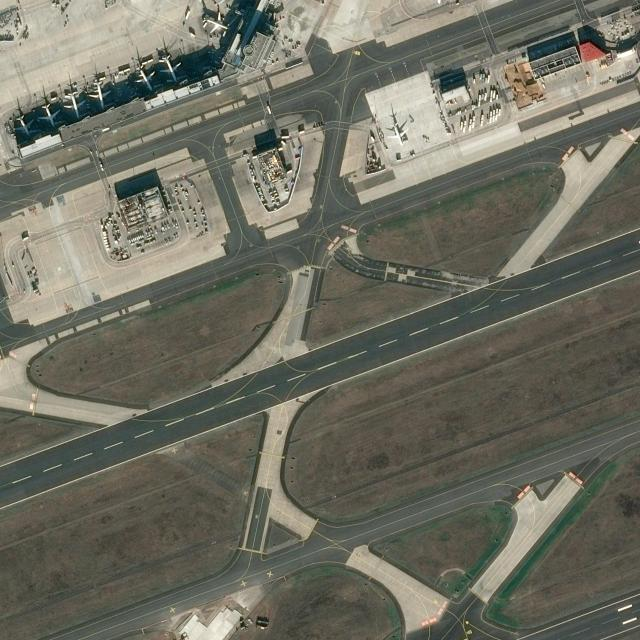aircraft: (87, 79, 111, 109), (62, 90, 86, 118), (159, 52, 181, 82), (38, 100, 61, 128), (134, 64, 156, 92), (203, 10, 229, 33), (386, 120, 409, 146), (12, 113, 34, 136)
